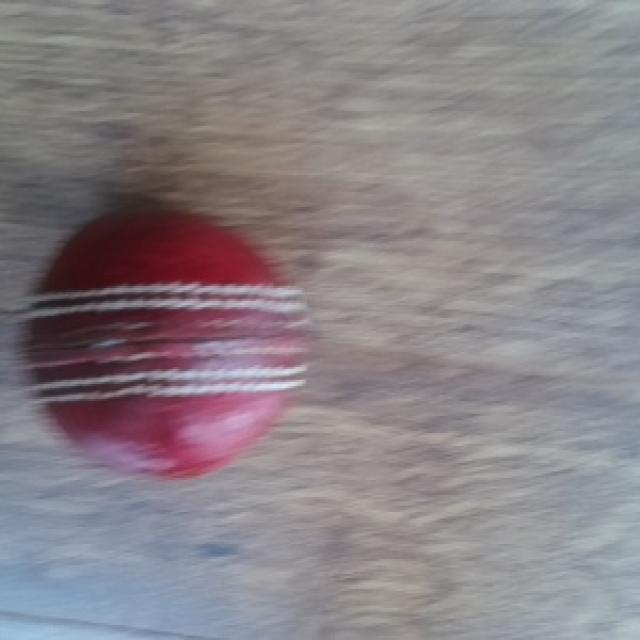ball: (27, 212, 314, 487)
